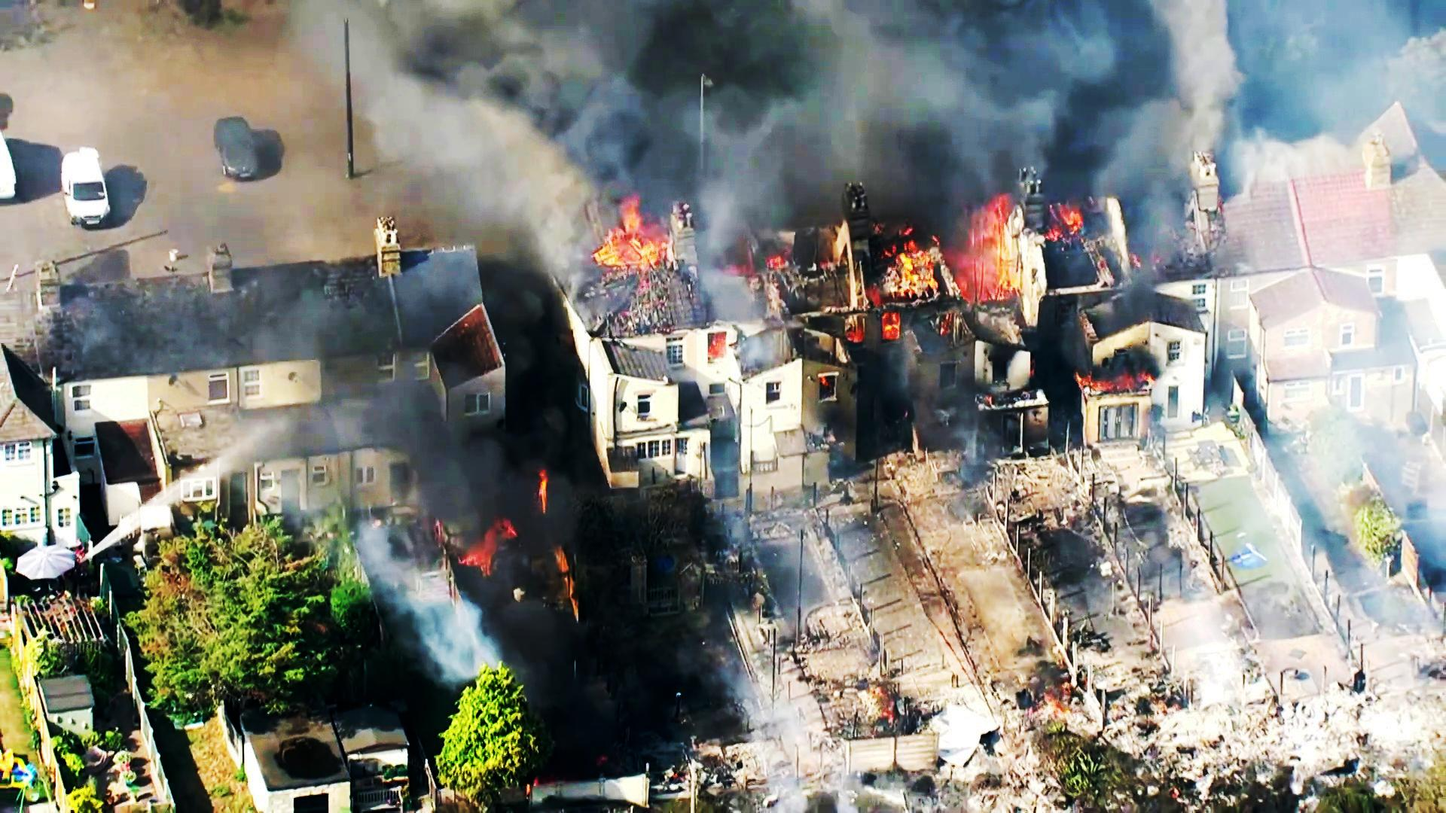fire: (597, 198, 653, 264), (961, 215, 981, 326)
smoke: (1004, 0, 1442, 147), (757, 0, 965, 207), (390, 0, 746, 111)
